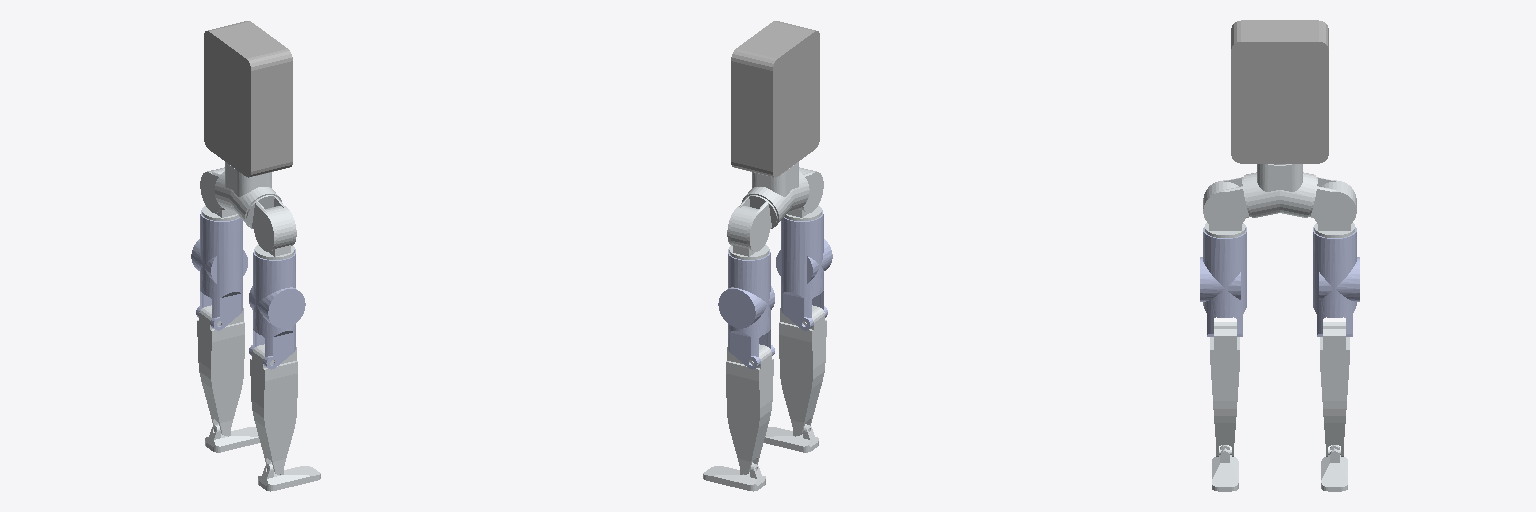
URDF robot description (A1_alpha_biped_concept_urdf):
<?xml version='1.0' encoding='utf-8'?>
<robot name="A1_alpha_biped_concept_urdf">
  <link name="Base_link">
    <inertial>
      <origin xyz="5.26908736552403E-07 4.06140266143968E-07 -0.0938267348666136" rpy="0 0 0" />
      <mass value="4.05456343292963" />
      <inertia ixx="0.01179024779419" ixy="1.98569478538591E-07" ixz="2.69528460015416E-08" iyy="0.00882192861925352" iyz="1.57018371732142E-08" izz="0.00853201033876545" />
    </inertial>
    <visual>
      <origin xyz="0 0 0" rpy="0 0 0" />
      <geometry>
        <mesh filename="../meshes/Base_link.STL" />
      </geometry>
      <material name="">
        <color rgba="0.898039215686275 0.917647058823529 0.929411764705882 1" />
      </material>
    </visual>
    <collision>
      <origin xyz="0 0 0" rpy="0 0 0" />
      <geometry>
        <mesh filename="../meshes/Base_link.STL" />
      </geometry>
    </collision>
  </link>
  <link name="Hip_FE_R">
    <inertial>
      <origin xyz="0.000541127224287277 -0.0087940014717252 0.0546701517721605" rpy="0 0 0" />
      <mass value="1.07035826648111" />
      <inertia ixx="0.00290627528873941" ixy="4.24751875074879E-11" ixz="1.72009201692152E-11" iyy="0.00293058714084905" iyz="0.000227323584823247" izz="0.00236341553431236" />
    </inertial>
    <visual>
      <origin xyz="0 0 0" rpy="0 0 0" />
      <geometry>
        <mesh filename="../meshes/Hip_FE_R.STL" />
      </geometry>
      <material name="">
        <color rgba="0.898039215686275 0.917647058823529 0.929411764705882 1" />
      </material>
    </visual>
    <collision>
      <origin xyz="0 0 0" rpy="0 0 0" />
      <geometry>
        <mesh filename="../meshes/Hip_FE_R.STL" />
      </geometry>
    </collision>
  </link>
  <joint name="Hip_FE_R_DOF" type="revolute">
    <origin xyz="0 -0.0949999999999997 -0.135000000000001" rpy="1.78896248329418 0 0" />
    <parent link="Base_link" />
    <child link="Hip_FE_R" />
    <axis xyz="0 0 -1" />
    <limit lower="-3.1416" upper="3.1416" effort="360" velocity="13.195" />
  </joint>
  <link name="Hip_AA_R">
    <inertial>
      <origin xyz="-0.0280662913954326 -3.40972744422574E-06 -0.0299726465658144" rpy="0 0 0" />
      <mass value="1.34201634674739" />
      <inertia ixx="0.00214673972134238" ixy="-1.03267075873292E-07" ixz="-8.91114438170701E-09" iyy="0.00247286659054722" iyz="-5.76013560720327E-08" izz="0.00349564781098248" />
    </inertial>
    <visual>
      <origin xyz="0 0 0" rpy="0 0 0" />
      <geometry>
        <mesh filename="../meshes/Hip_AA_R.STL" />
      </geometry>
      <material name="">
        <color rgba="0.898039215686275 0.917647058823529 0.929411764705882 1" />
      </material>
    </visual>
    <collision>
      <origin xyz="0 0 0" rpy="0 0 0" />
      <geometry>
        <mesh filename="../meshes/Hip_AA_R.STL" />
      </geometry>
    </collision>
  </link>
  <joint name="Hip_AA_R_DOF" type="revolute">
    <origin xyz="0.0300000000000001 -0.0141381072379307 0.0748339089165384" rpy="1.5707963267949 0.218166156499285 1.5707963267949" />
    <parent link="Hip_FE_R" />
    <child link="Hip_AA_R" />
    <axis xyz="0 0 1" />
    <limit lower="-2.7925" upper="0.34907" effort="150" velocity="14.661" />
  </joint>
  <link name="Hip_Rot_R">
    <inertial>
      <origin xyz="0.000714208177893058 -0.00695351764808222 0.142400789591637" rpy="0 0 0" />
      <mass value="3.68698255922592" />
      <inertia ixx="0.0236627986112543" ixy="1.62762152791596E-06" ixz="-0.000511723084718518" iyy="0.0273033811210901" iyz="-5.94104395735994E-06" izz="0.00768041652660593" />
    </inertial>
    <visual>
      <origin xyz="0 0 0" rpy="0 0 0" />
      <geometry>
        <mesh filename="../meshes/Hip_Rot_R.STL" />
      </geometry>
      <material name="">
        <color rgba="0.792156862745098 0.819607843137255 0.933333333333333 1" />
      </material>
    </visual>
    <collision>
      <origin xyz="0 0 0" rpy="0 0 0" />
      <geometry>
        <mesh filename="../meshes/Hip_Rot_R.STL" />
      </geometry>
    </collision>
  </link>
  <joint name="Hip_Rot_R_DOF" type="revolute">
    <origin xyz="-0.08 0 -0.03" rpy="3.1416 1.5708 0" />
    <parent link="Hip_AA_R" />
    <child link="Hip_Rot_R" />
    <axis xyz="0 0 1" />
    <limit lower="-3.1416" upper="3.1416" effort="150" velocity="14.661" />
  </joint>
  <link name="Knee_FE_R">
    <inertial>
      <origin xyz="0.039838910690881 -0.142355350265899 0.00332735364250217" rpy="0 0 0" />
      <mass value="4.44907653971811" />
      <inertia ixx="0.0294571093985271" ixy="-0.000122798100602818" ixz="-1.25336911412054E-05" iyy="0.00571924091731441" iyz="-1.35468581198028E-05" izz="0.033554717187136" />
    </inertial>
    <visual>
      <origin xyz="0 0 0" rpy="0 0 0" />
      <geometry>
        <mesh filename="../meshes/Knee_FE_R.STL" />
      </geometry>
      <material name="">
        <color rgba="0.898039215686275 0.917647058823529 0.929411764705882 1" />
      </material>
    </visual>
    <collision>
      <origin xyz="0 0 0" rpy="0 0 0" />
      <geometry>
        <mesh filename="../meshes/Knee_FE_R.STL" />
      </geometry>
    </collision>
  </link>
  <joint name="Knee_FE_R_DOF" type="revolute">
    <origin xyz="0.0399999999999994 0 0.35" rpy="-1.5707963267949 0 -3.14159265358979" />
    <parent link="Hip_Rot_R" />
    <child link="Knee_FE_R" />
    <axis xyz="0 0 -1" />
    <limit lower="0" upper="2.4435" effort="360" velocity="13.195" />
  </joint>
  <link name="Ankle_FE_R">
    <inertial>
      <origin xyz="1.12885247022067E-08 0 1.36591147559262E-08" rpy="0 0 0" />
      <mass value="0.0440234895833192" />
      <inertia ixx="7.49572746815675E-06" ixy="-1.31332857591702E-11" ixz="6.78691130065407E-18" iyy="1.21074989851543E-05" iyz="1.19393507027098E-11" izz="5.88417476785088E-06" />
    </inertial>
    <visual>
      <origin xyz="0 0 0" rpy="0 0 0" />
      <geometry>
        <mesh filename="../meshes/Ankle_FE_R.STL" />
      </geometry>
      <material name="">
        <color rgba="0.898039215686275 0.917647058823529 0.929411764705882 1" />
      </material>
    </visual>
    <collision>
      <origin xyz="0 0 0" rpy="0 0 0" />
      <geometry>
        <mesh filename="../meshes/Ankle_FE_R.STL" />
      </geometry>
    </collision>
  </link>
  <joint name="Ankle_FE_R_DOF" type="revolute">
    <origin xyz="0.0400000000000001 -0.39 0" rpy="3.14159265358979 0 0" />
    <parent link="Knee_FE_R" />
    <child link="Ankle_FE_R" />
    <axis xyz="0 0 1" />
    <limit lower="-1.5708" upper="1.5708" effort="90" velocity="16.441" />
  </joint>
  <link name="Ankle_Roll_R">
    <inertial>
      <origin xyz="-0.0358077749170249 -2.10164330660678E-07 0.0397465343505236" rpy="0 0 0" />
      <mass value="0.388227325603849" />
      <inertia ixx="0.00152304211561766" ixy="2.87037254981105E-10" ixz="0.000140349469841203" iyy="0.00137926463671363" iyz="-7.23593454580257E-09" izz="0.000339510228557633" />
    </inertial>
    <visual>
      <origin xyz="0 0 0" rpy="0 0 0" />
      <geometry>
        <mesh filename="../meshes/Ankle_Roll_R.STL" />
      </geometry>
      <material name="">
        <color rgba="0.898039215686275 0.917647058823529 0.929411764705882 1" />
      </material>
    </visual>
    <collision>
      <origin xyz="0 0 0" rpy="0 0 0" />
      <geometry>
        <mesh filename="../meshes/Ankle_Roll_R.STL" />
      </geometry>
    </collision>
  </link>
  <joint name="Ankle_Roll_R_DOF" type="revolute">
    <origin xyz="0 0 0" rpy="-1.5708 0 -1.5708" />
    <!-- <origin xyz="0 0 0" rpy="0 0 0" /> -->
    <parent link="Ankle_FE_R" />
    <child link="Ankle_Roll_R" />
    <axis xyz="0 0 1" />
    <limit lower="-0.7854" upper="0.7854" effort="90" velocity="16.441" />
  </joint>
  <link name="Hip_FE_L">
    <inertial>
      <origin xyz="0.000541128219824045 0.00879400147172583 0.0546701517721603" rpy="0 0 0" />
      <mass value="1.07035826648111" />
      <inertia ixx="0.00290627528873941" ixy="4.24751872195233E-11" ixz="-1.72009196543018E-11" iyy="0.00293058714084905" iyz="-0.000227323584823247" izz="0.00236341553431236" />
    </inertial>
    <visual>
      <origin xyz="0 0 0" rpy="0 0 0" />
      <geometry>
        <mesh filename="../meshes/Hip_FE_L.STL" />
      </geometry>
      <material name="">
        <color rgba="0.898039215686275 0.917647058823529 0.929411764705882 1" />
      </material>
    </visual>
    <collision>
      <origin xyz="0 0 0" rpy="0 0 0" />
      <geometry>
        <mesh filename="../meshes/Hip_FE_L.STL" />
      </geometry>
    </collision>
  </link>
  <joint name="Hip_FE_L_DOF" type="revolute">
    <origin xyz="0 0.0950000000000001 -0.135" rpy="-1.78896248329418 0 0" />
    <parent link="Base_link" />
    <child link="Hip_FE_L" />
    <axis xyz="0 0 -1" />
    <limit lower="-3.1416" upper="3.1416" effort="360" velocity="13.195" />
    </joint>
  <link name="Hip_AA_L">
    <inertial>
      <origin xyz="-0.028061867866019 -1.01380196940171E-06 -0.0299726465658143" rpy="0 0 0" />
      <mass value="1.34201634674739" />
      <inertia ixx="0.00213821001182397" ixy="1.03267075872987E-07" ixz="5.76013560725421E-08" iyy="0.00248139630006563" iyz="-8.91114438057843E-09" izz="0.00349564781098248" />
    </inertial>
    <visual>
      <origin xyz="0 0 0" rpy="0 0 0" />
      <geometry>
        <mesh filename="../meshes/Hip_AA_L.STL" />
      </geometry>
      <material name="">
        <color rgba="0.898039215686275 0.917647058823529 0.929411764705882 1" />
      </material>
    </visual>
    <collision>
      <origin xyz="0 0 0" rpy="0 0 0" />
      <geometry>
        <mesh filename="../meshes/Hip_AA_L.STL" />
      </geometry>
    </collision>
  </link>
  <joint name="Hip_AA_L_DOF" type="revolute">
    <origin xyz="0.03 0.014138 0.074834" rpy="-1.5708 0.21817 -1.5708" />
    <parent link="Hip_FE_L" />
    <child link="Hip_AA_L" />
    <axis xyz="0 0 -1" />
    <limit lower="-2.7925" upper="0.34907" effort="150" velocity="14.661" />
    </joint>
  <link name="Hip_Rot_L">
    <inertial>
      <origin xyz="0.000714953148290275 0.00695293492870525 0.142401106163212" rpy="0 0 0" />
      <mass value="3.68688875410573" />
      <inertia ixx="0.0236628037232906" ixy="-1.89892110954379E-06" ixz="-0.000511879736056993" iyy="0.0273033900241753" iyz="5.90440347167564E-06" izz="0.00768042525228793" />
    </inertial>
    <visual>
      <origin xyz="0 0 0" rpy="0 0 0" />
      <geometry>
        <mesh filename="../meshes/Hip_Rot_L.STL" />
      </geometry>
      <material name="">
        <color rgba="0.792156862745098 0.819607843137255 0.933333333333333 1" />
      </material>
    </visual>
    <collision>
      <origin xyz="0 0 0" rpy="0 0 0" />
      <geometry>
        <mesh filename="../meshes/Hip_Rot_L.STL" />
      </geometry>
    </collision>
  </link>
  <joint name="Hip_Rot_L_DOF" type="revolute">
    <origin xyz="-0.08 0 -0.03" rpy="3.1416 1.5708 0" />
    <parent link="Hip_AA_L" />
    <child link="Hip_Rot_L" />
    <axis xyz="0 0 1" />
    <limit lower="-3.1416" upper="3.1416" effort="150" velocity="14.661" />
    </joint>
  <link name="Knee_FE_L">
    <inertial>
      <origin xyz="0.039838892740129 -0.142355319552595 -0.00332735326748895" rpy="0 0 0" />
      <mass value="4.44907713235061" />
      <inertia ixx="0.0294571120917017" ixy="-0.000122803363375947" ixz="1.25350353292376E-05" iyy="0.00571923821410752" iyz="1.35465189589459E-05" izz="0.0335547171919429" />
    </inertial>
    <visual>
      <origin xyz="0 0 0" rpy="0 0 0" />
      <geometry>
        <mesh filename="../meshes/Knee_FE_L.STL" />
      </geometry>
      <material name="">
        <color rgba="0.898039215686275 0.917647058823529 0.929411764705882 1" />
      </material>
    </visual>
    <collision>
      <origin xyz="0 0 0" rpy="0 0 0" />
      <geometry>
        <mesh filename="../meshes/Knee_FE_L.STL" />
      </geometry>
    </collision>
  </link>
  <joint name="Knee_FE_L_DOF" type="revolute">
    <origin xyz="0.0400000000000003 0 0.35" rpy="-1.5707963267949 0 3.14159265358979" />
    <parent link="Hip_Rot_L" />
    <child link="Knee_FE_L" />
    <axis xyz="0 0 -1" />
    <limit lower="0" upper="2.4435" effort="360" velocity="13.195" />
    </joint>
  <link name="Ankle_FE_L">
    <inertial>
      <origin xyz="1.12885250638295E-08 2.22044604925031E-16 1.3659114311837E-08" rpy="0 0 0" />
      <mass value="0.0440234895833194" />
      <inertia ixx="7.4957274681568E-06" ixy="-1.31332857615903E-11" ixz="6.78514201560217E-18" iyy="1.21074989851544E-05" iyz="1.19393506965364E-11" izz="5.88417476785091E-06" />
    </inertial>
    <visual>
      <origin xyz="0 0 0" rpy="0 0 0" />
      <geometry>
        <mesh filename="../meshes/Ankle_FE_L.STL" />
      </geometry>
      <material name="">
        <color rgba="0.898039215686275 0.917647058823529 0.929411764705882 1" />
      </material>
    </visual>
    <collision>
      <origin xyz="0 0 0" rpy="0 0 0" />
      <geometry>
        <mesh filename="../meshes/Ankle_FE_L.STL" />
      </geometry>
    </collision>
  </link>
  <joint name="Ankle_FE_L_DOF" type="revolute">
    <origin xyz="0.0400000000000002 -0.39 0" rpy="3.14159265358979 0 0" />
    <parent link="Knee_FE_L" />
    <child link="Ankle_FE_L" />
    <axis xyz="0 0 1" />
    <limit lower="-1.5708" upper="1.5708" effort="90" velocity="16.441" />
    </joint>
  <link name="Ankle_Roll_L">
    <inertial>
      <origin xyz="-0.0358077749170234 -2.10164330105567E-07 0.0397465343505239" rpy="0 0 0" />
      <mass value="0.388227325603851" />
      <inertia ixx="0.00152304211561767" ixy="2.8703725441473E-10" ixz="0.00014034946984122" iyy="0.00137926463671419" iyz="-7.23593454415498E-09" izz="0.000339510228558194" />
    </inertial>
    <visual>
      <origin xyz="0 0 0" rpy="0 0 0" />
      <geometry>
        <mesh filename="../meshes/Ankle_Roll_L.STL" />
      </geometry>
      <material name="">
        <color rgba="0.898039215686275 0.917647058823529 0.929411764705882 1" />
      </material>
    </visual>
    <collision>
      <origin xyz="0 0 0" rpy="0 0 0" />
      <geometry>
        <mesh filename="../meshes/Ankle_Roll_L.STL" />
      </geometry>
    </collision>
  </link>
  <joint name="Ankle_Roll_L_DOF" type="revolute">
    <origin xyz="0 0 0" rpy="-1.5708 0 -1.5708" />
    <!-- <origin xyz="0 0 0" rpy="0 0 0" /> -->
    <parent link="Ankle_FE_L" />
    <child link="Ankle_Roll_L" />
    <axis xyz="0 0 1" />
    <limit lower="-0.7854" upper="0.7854" effort="90" velocity="16.441" />
    </joint>
  <link name="Torso_Yaw">
    <inertial>
      <origin xyz="-5.86251519264115E-19 7.32483834569628E-17 0.211578640627019" rpy="0 0 0" />
      <mass value="48.3898735743093" />
      <inertia ixx="1.00496006565357" ixy="2.63011596117778E-17" ixz="2.74349763844502E-17" iyy="0.751625310608124" iyz="-5.33045326907402E-17" izz="0.43397033081171" />
    </inertial>
    <visual>
      <origin xyz="0 0 0" rpy="0 0 0" />
      <geometry>
        <mesh filename="../meshes/Torso_Yaw.STL" />
      </geometry>
      <material name="">
        <color rgba="0.752941176470588 0.752941176470588 0.752941176470588 1" />
      </material>
    </visual>
    <collision>
      <origin xyz="0 0 0" rpy="0 0 0" />
      <geometry>
        <mesh filename="../meshes/Torso_Yaw.STL" />
      </geometry>
    </collision>
  </link>
  <joint name="Torso_Yaw_DOF" type="continuous">
    <origin xyz="0 0 0" rpy="0 0 0" />
    <parent link="Base_link" />
    <child link="Torso_Yaw" />
    <axis xyz="0 0 -1" />
    <limit lower="-3.1416" upper="3.1416" effort="90" velocity="16.441" />
  </joint>
  <!-- Alias for left foot -->
  <link name="left_foot"/>
  <joint name="left_foot_fixed" type="fixed">
    <parent link="Ankle_Roll_L"/>
    <child link="left_foot"/>
    <!-- <origin xyz="-0.06 0 0" rpy="0 0 0"/> -->
    <origin xyz="-0.06 0 0" rpy="0 -1.57079 -3.14159"/>
  </joint>

  <!-- Alias for right foot -->
  <link name="right_foot"/>
  <joint name="right_foot_fixed" type="fixed">
    <parent link="Ankle_Roll_R"/>
    <child link="right_foot"/>
    <!-- <origin xyz="-0.06 0 0" rpy="0 0 0"/> -->
    <origin xyz="-0.06 0 0" rpy="0 -1.57079 -3.14159"/>
  </joint>

  <link name="trunk"/>
  <joint name="trunk_fixed" type="fixed">
    <parent link="Torso_Yaw"/>
    <child link="trunk"/>
    <origin xyz="0 0 0" rpy="0 0 0"/>
  </joint>

</robot>

--- What the picture shows (computed from the rendered views, not written in the file) ---
3 views of the same robot in one strip: view 1: azimuth 30°, elevation 25°; view 2: azimuth 150°, elevation 25°; view 3: azimuth 270°, elevation 25° (orthographic).
Robot: A1_alpha_biped_concept_urdf — 17 links, 16 joints (12 revolute, 1 continuous, 3 fixed); root link Base_link; default pose: every joint at zero.
Links seen in each view (by area): view 1: Torso_Yaw, Hip_Rot_R, Hip_Rot_L, Knee_FE_L, Knee_FE_R, Base_link, Hip_FE_R, Hip_AA_R, Ankle_Roll_R, Ankle_Roll_L, Hip_FE_L; view 2: Torso_Yaw, Hip_Rot_L, Hip_Rot_R, Knee_FE_R, Knee_FE_L, Base_link, Hip_FE_L, Hip_AA_L, Ankle_Roll_L, Ankle_Roll_R, Hip_FE_R; view 3: Torso_Yaw, Hip_Rot_R, Hip_Rot_L, Base_link, Knee_FE_L, Knee_FE_R, Hip_FE_R, Hip_FE_L, Ankle_Roll_R, Ankle_Roll_L, Hip_AA_R, Hip_AA_L.
Boxes of the visible links, bbox=[...] form: Torso_Yaw: bbox=[204, 21, 292, 177]; Hip_Rot_R: bbox=[249, 249, 305, 369]; Hip_Rot_L: bbox=[191, 210, 247, 330]; Knee_FE_L: bbox=[197, 305, 244, 435]; Knee_FE_R: bbox=[250, 344, 297, 474]; Base_link: bbox=[214, 162, 281, 228]; Hip_FE_R: bbox=[246, 195, 296, 251]; Hip_AA_R: bbox=[255, 206, 294, 259]; Ankle_Roll_R: bbox=[258, 464, 320, 491]; Ankle_Roll_L: bbox=[205, 425, 259, 452]; Hip_FE_L: bbox=[200, 171, 222, 212]; Torso_Yaw: bbox=[731, 21, 819, 177]; Hip_Rot_L: bbox=[718, 249, 774, 369]; Hip_Rot_R: bbox=[776, 210, 832, 330]; Knee_FE_R: bbox=[779, 305, 826, 435]; Knee_FE_L: bbox=[726, 344, 773, 474]; Base_link: bbox=[742, 162, 809, 228]; Hip_FE_L: bbox=[727, 195, 777, 251]; Hip_AA_L: bbox=[729, 206, 768, 259]; Ankle_Roll_L: bbox=[703, 464, 765, 491]; Ankle_Roll_R: bbox=[764, 425, 818, 452]; Hip_FE_R: bbox=[801, 171, 823, 212]; Torso_Yaw: bbox=[1231, 20, 1328, 163]; Hip_Rot_R: bbox=[1200, 227, 1246, 336]; Hip_Rot_L: bbox=[1313, 227, 1359, 336]; Base_link: bbox=[1244, 164, 1315, 217]; Knee_FE_L: bbox=[1320, 322, 1349, 456]; Knee_FE_R: bbox=[1210, 322, 1239, 456]; Hip_FE_R: bbox=[1203, 177, 1251, 230]; Hip_FE_L: bbox=[1308, 177, 1356, 230]; Ankle_Roll_R: bbox=[1212, 445, 1238, 491]; Ankle_Roll_L: bbox=[1321, 445, 1347, 491]; Hip_AA_R: bbox=[1203, 182, 1245, 237]; Hip_AA_L: bbox=[1314, 182, 1356, 237].
Bounding box of the posed robot: 0.225 × 0.48 × 1.46 m (x, y, z).
Meshes: 14 distinct files referenced, 14 mesh visuals loaded (14 binary STL).